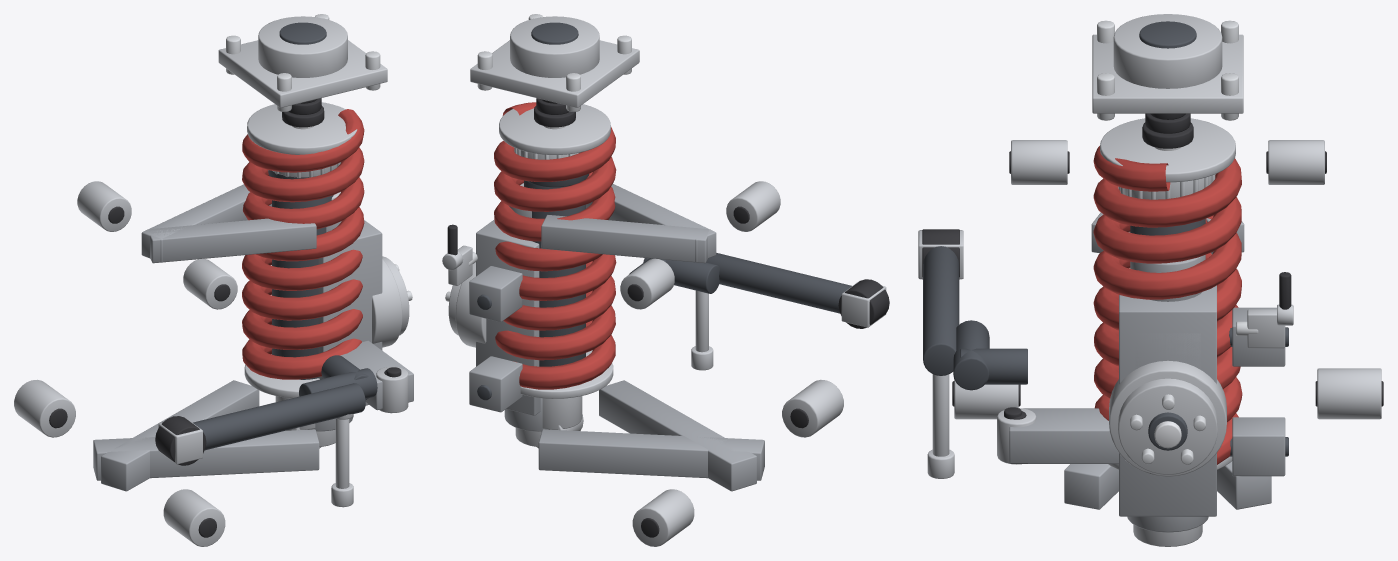
Rendered from susp_corner.glb.
The picture shows the model from 3 angles, left to right: view 1: azimuth 30°, elevation 25°; view 2: azimuth 150°, elevation 25°; view 3: azimuth 270°, elevation 25°; orthographic projection. The views are drawn at different scales.
Visible parts, largest first — view 1: susp_corner; view 2: susp_corner; view 3: susp_corner.
Part boxes in pixels (<box>): susp_corner: <box>14,14,413,546</box>; susp_corner: <box>442,14,889,546</box>; susp_corner: <box>918,14,1383,546</box>.
Bounding box in the file's own units: 0.614 × 0.729 × 0.615.
4 materials, 4 textured.
